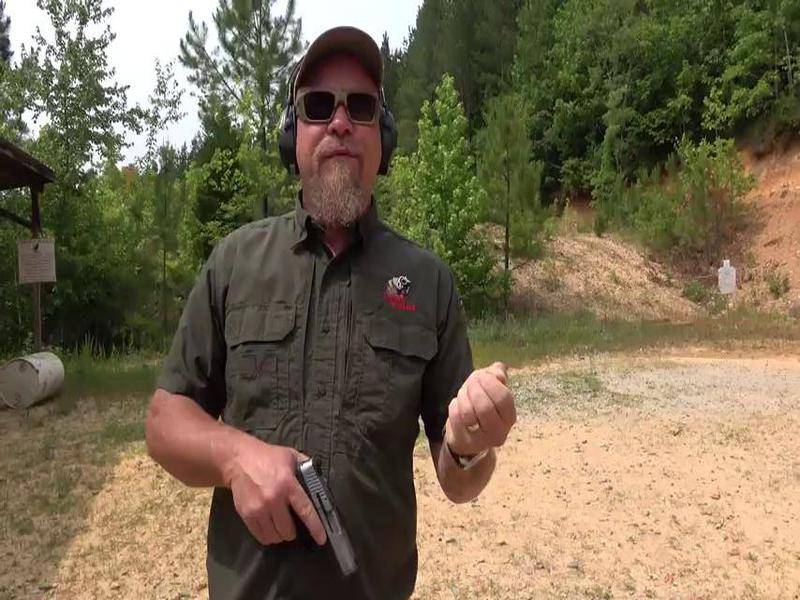Pistola: (206, 456, 392, 600)
